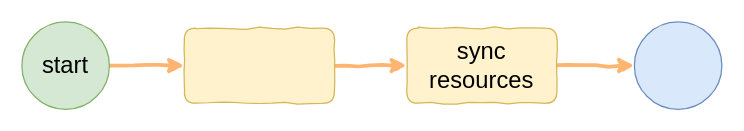
Image size: 744x131. Some labels were removed from this diagram. Each missing label, with the centre of its shape:
finish: point 677,65
load resources: point 258,65
